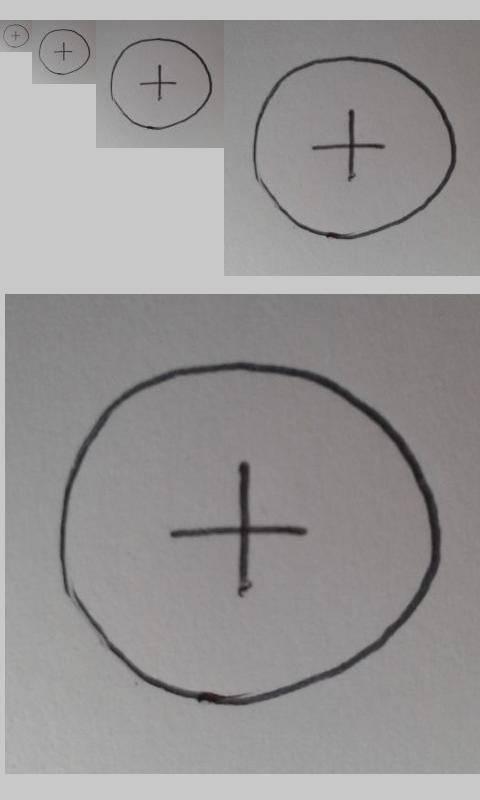button: (58, 361, 445, 706), (252, 56, 456, 239), (109, 37, 213, 131), (38, 28, 91, 75), (3, 24, 29, 48)
